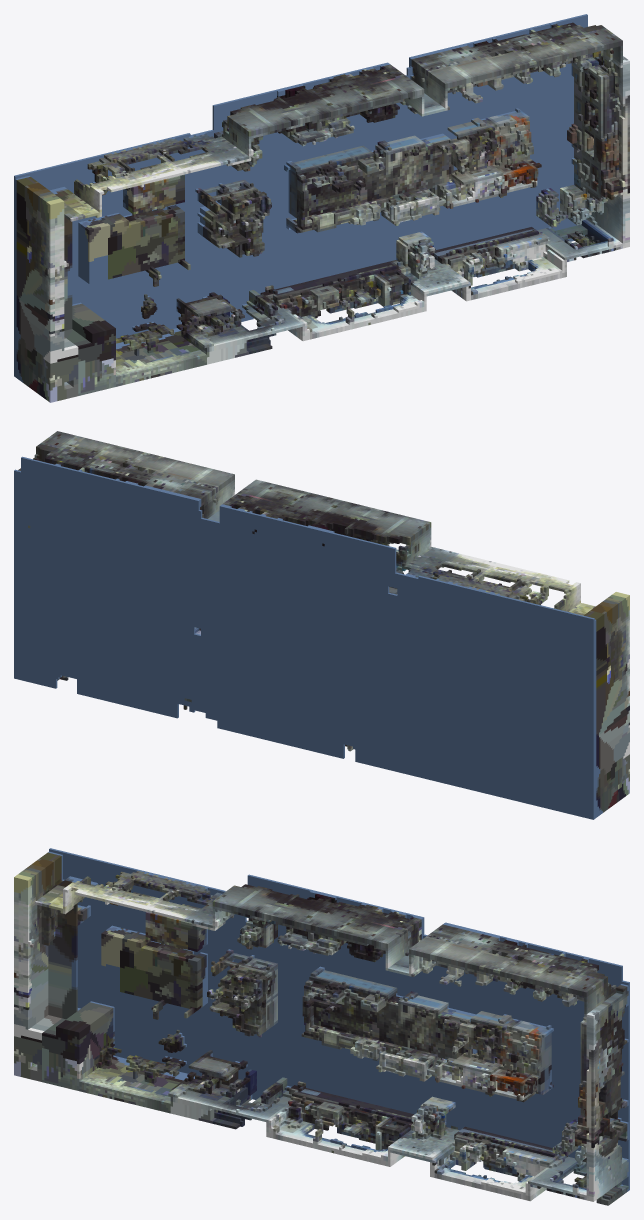
The model's file is geomap_final_noroof.obj.
3 views of the same model, one above another, from view 1: azimuth 30°, elevation 25°; view 2: azimuth 150°, elevation 25°; view 3: azimuth 330°, elevation 25° (orthographic).
Visible parts, largest first — view 1: mesh; view 2: mesh; view 3: mesh.
Part boxes in pixels (x1,y1,x2,y2): mesh: [14, 14, 629, 402]; mesh: [14, 431, 629, 819]; mesh: [14, 848, 629, 1205].
Size of the model in its own units: 24.8 by 9.1 by 2.7.
1 material, 1 textured.
